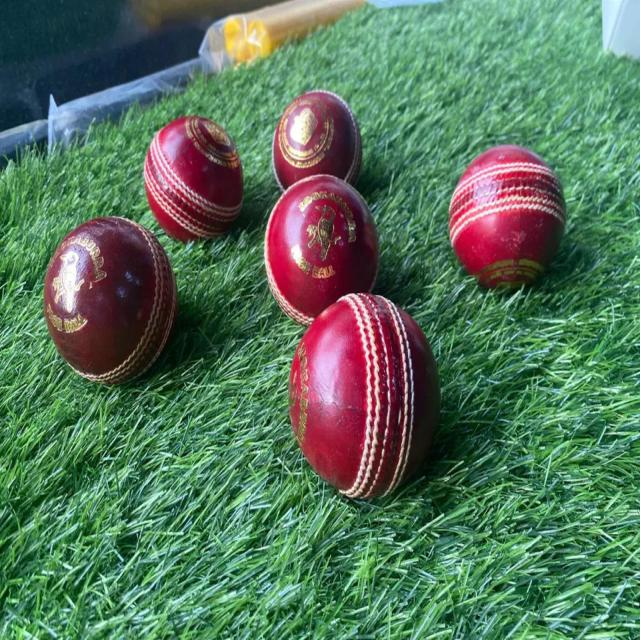ball: (283, 286, 442, 513), (42, 211, 178, 420), (263, 172, 388, 331), (447, 140, 569, 296), (142, 110, 248, 253), (267, 88, 374, 184)
